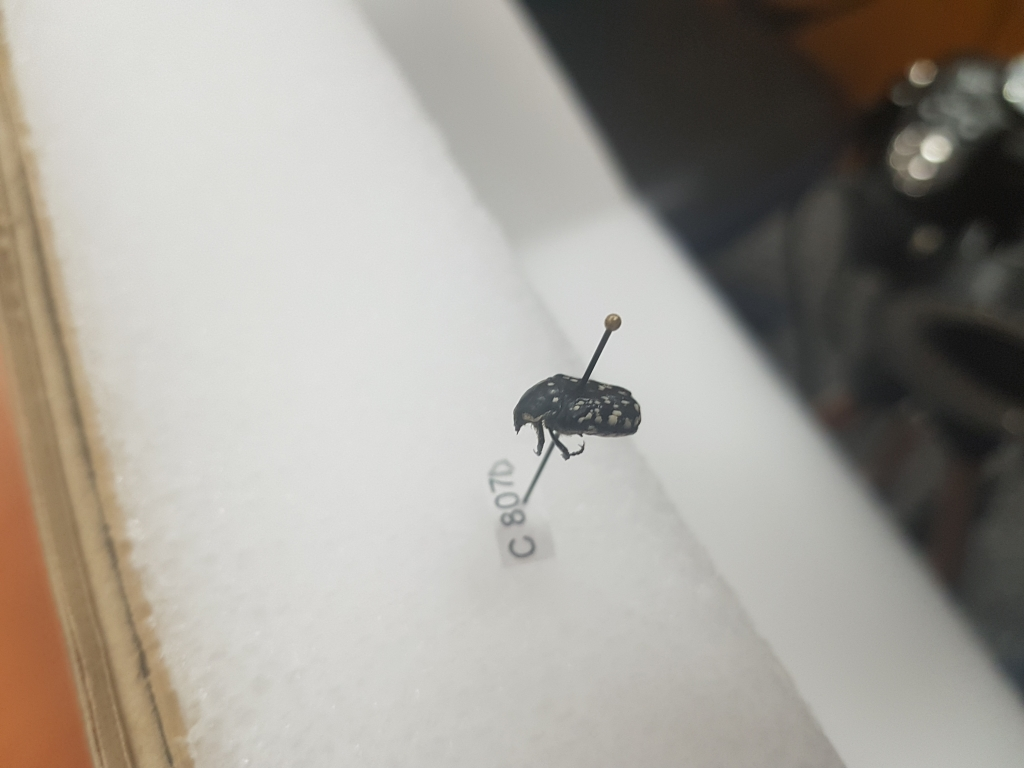Oxythyrea_albopicta: (506, 368, 647, 463)
